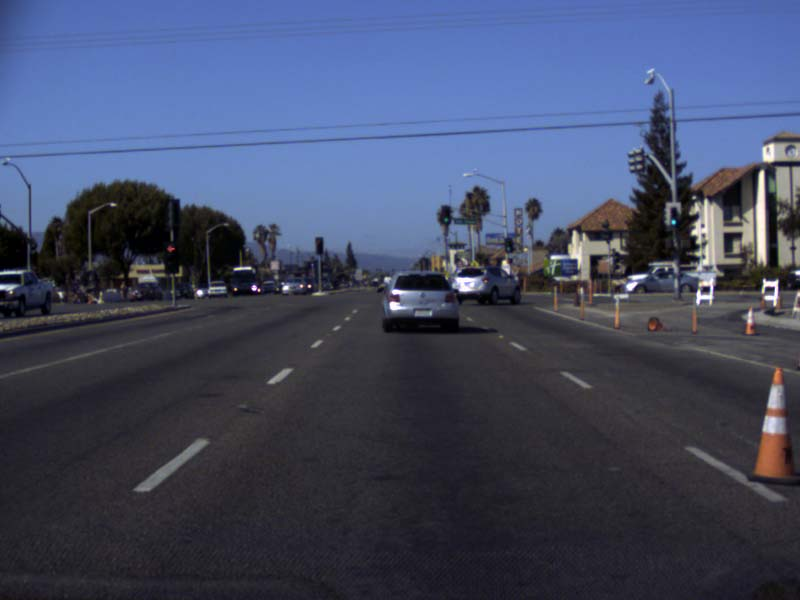Green: (440, 206, 450, 224), (504, 237, 514, 253), (670, 207, 678, 227)
Red: (164, 241, 178, 272), (314, 236, 323, 255)
